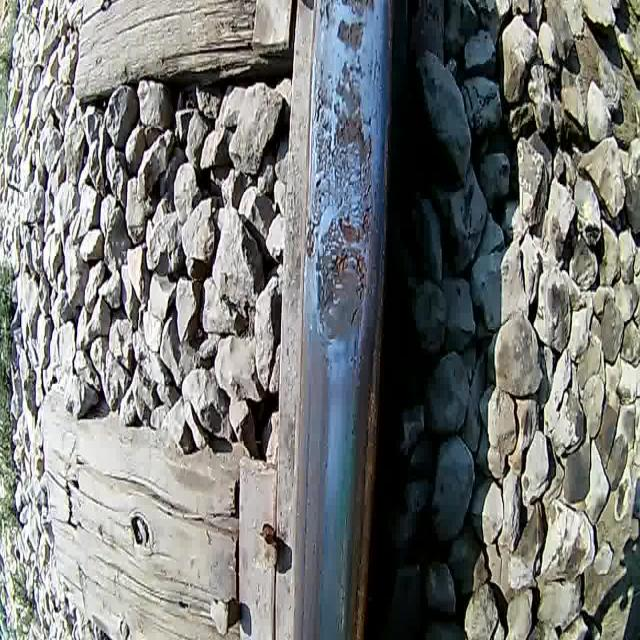Cracks: (310, 133, 375, 218), (312, 52, 329, 136), (306, 199, 331, 241), (349, 286, 367, 336), (314, 0, 333, 32)
Spallings: (330, 205, 375, 297), (332, 108, 369, 174), (333, 10, 369, 59), (304, 206, 323, 264)
Squats: (300, 0, 389, 358)
